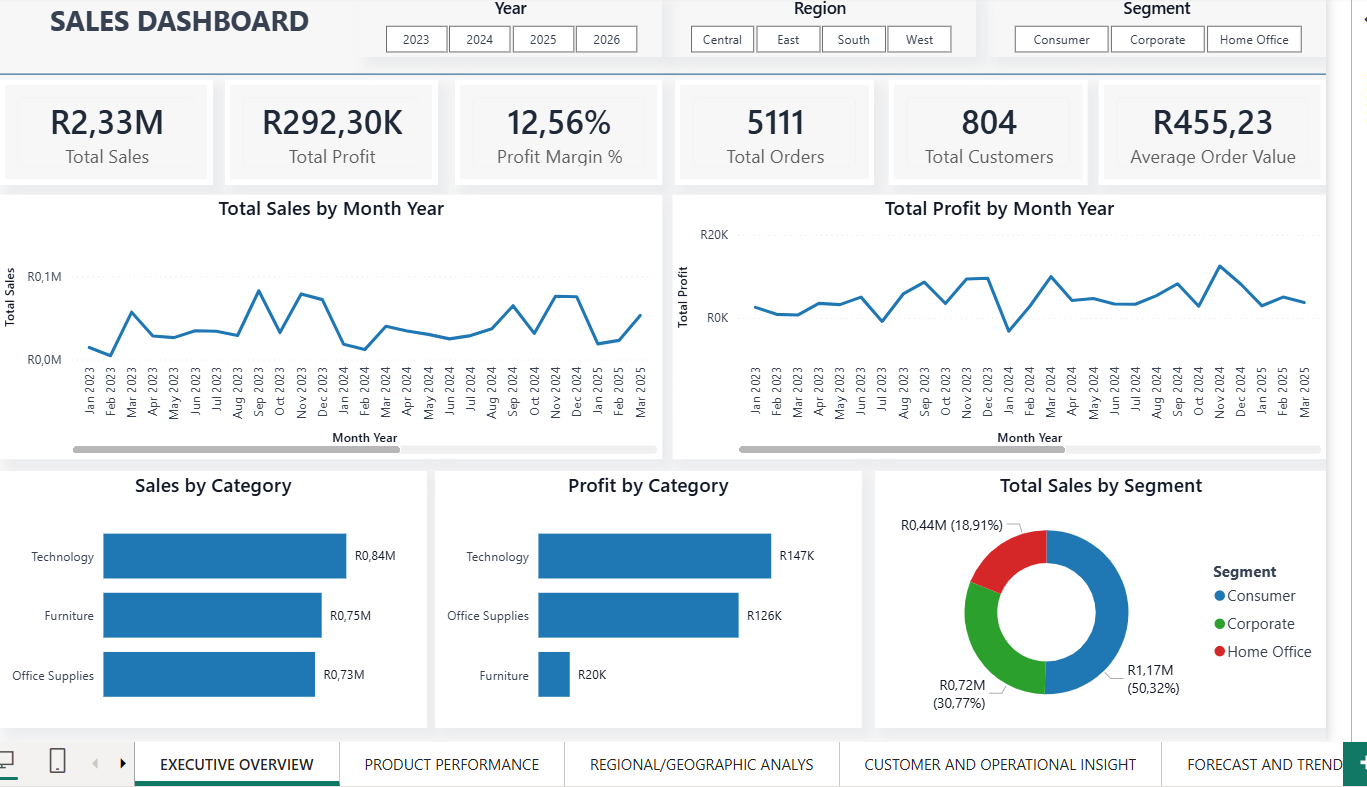

What the dashboard file says about the page in this screenshot:
{"tool":"powerbi","page":{"name":"EXECUTIVE OVERVIEW","canvas":[1280,720],"ordinal":0},"visuals":[{"type":"cardVisual","fields":{"Data":["Orders.Total Sales"]},"box":[0,81,205.8,101.5],"z":0},{"type":"cardVisual","fields":{"Data":["Orders.Total Profit"]},"box":[216.8,81,205.8,101.5],"z":1000},{"type":"cardVisual","fields":{"Data":["Orders.Profit Margin %"]},"box":[439.1,80.8,200.3,101.3],"z":2000},{"type":"cardVisual","fields":{"Data":["Orders.Total Orders"]},"box":[651.8,81,192.1,101.5],"z":3000},{"type":"cardVisual","fields":{"Data":["Orders.Total Customers"]},"box":[857.6,81,192.1,101.5],"z":4000},{"type":"cardVisual","fields":{"Data":["Orders.Average Order Value"]},"box":[1060.7,81,219.6,101.5],"z":5000},{"type":"lineChart","fields":{"Category":["DateTable.Month Year"],"Y":["Orders.Total Sales"]},"box":[0,192.1,639.5,255.2],"z":6000},{"type":"lineChart","fields":{"Category":["DateTable.Month Year"],"Y":["Orders.Total Profit"]},"box":[649.1,192.1,631.2,255.2],"z":7000},{"type":"clusteredBarChart","title":"Sales by Category","fields":{"Category":["Orders.Category"],"Y":["Orders.Total Sales"]},"box":[0,458.3,411.7,248.4],"z":8000},{"type":"clusteredBarChart","title":"Profit by Category","fields":{"Category":["Orders.Category"],"Y":["Orders.Total Profit"]},"box":[419.9,458.3,411.7,248.4],"z":9000},{"type":"donutChart","fields":{"Category":["Orders.Segment"],"Y":["Orders.Total Sales"]},"box":[843.9,458.3,436.4,248.4],"z":10000},{"type":"slicer","title":"Year","fields":{"Values":["DateTable.Year"]},"box":[346.2,0,293.2,59.1],"z":11000},{"type":"slicer","title":"Region","fields":{"Values":["Orders.Region"]},"box":[640.6,0,301.6,59.1],"z":12000},{"type":"slicer","title":"Segment","fields":{"Values":["Orders.Segment"]},"box":[953.1,0,326.9,59.1],"z":13000},{"type":"textbox","box":[0,0,346.2,59.1],"z":14000},{"type":"shape","box":[0,70,1280,10.9],"z":15000}]}

Visuals, with their boxes on the page's 1280x720 design canvas (x1, y1, x2, y2). These are canvas units, not pixel positions in the 1367x787 screenshot, which may show the page scaled, cropped or inside an application window:
cardVisual - Orders.Total Sales: select_region(0, 81, 206, 182)
cardVisual - Orders.Total Profit: select_region(217, 81, 423, 182)
cardVisual - Orders.Profit Margin %: select_region(439, 81, 639, 182)
cardVisual - Orders.Total Orders: select_region(652, 81, 844, 182)
cardVisual - Orders.Total Customers: select_region(858, 81, 1050, 182)
cardVisual - Orders.Average Order Value: select_region(1061, 81, 1280, 182)
lineChart - DateTable.Month Year x Orders.Total Sales: select_region(0, 192, 640, 447)
lineChart - DateTable.Month Year x Orders.Total Profit: select_region(649, 192, 1280, 447)
"Sales by Category" clusteredBarChart: select_region(0, 458, 412, 707)
"Profit by Category" clusteredBarChart: select_region(420, 458, 832, 707)
donutChart - Orders.Segment x Orders.Total Sales: select_region(844, 458, 1280, 707)
"Year" slicer: select_region(346, 0, 639, 59)
"Region" slicer: select_region(641, 0, 942, 59)
"Segment" slicer: select_region(953, 0, 1280, 59)
textbox: select_region(0, 0, 346, 59)
shape: select_region(0, 70, 1280, 81)
